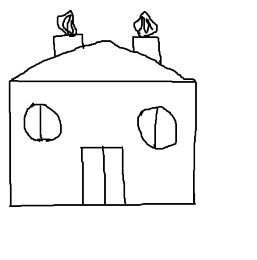closed_window: (128, 101, 183, 157), (18, 98, 69, 147)
door: (71, 141, 137, 208)
roof: (2, 37, 210, 85)
smoking_chimney: (123, 10, 166, 65), (49, 11, 89, 58)
wall: (4, 73, 207, 212)
